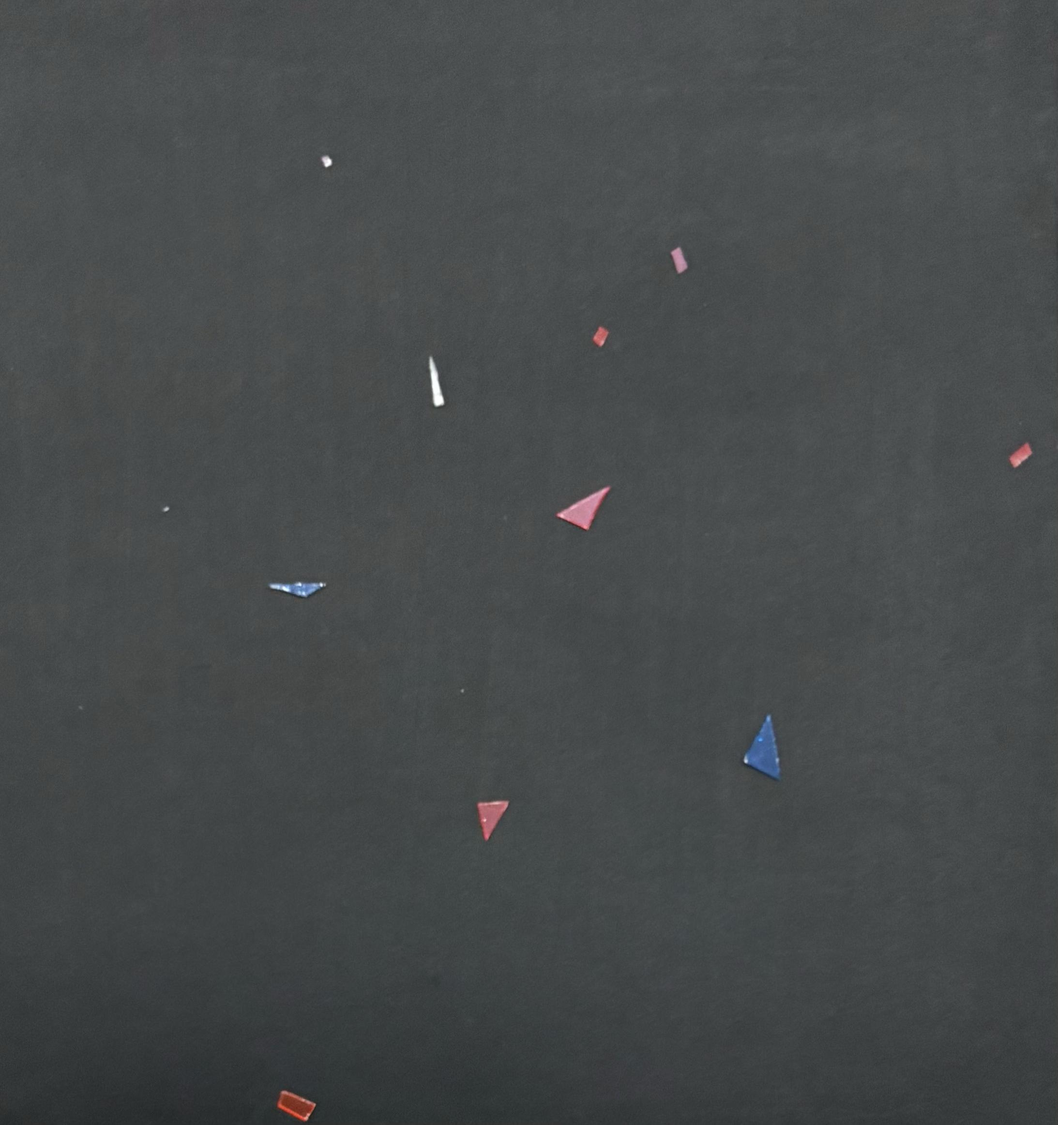Microplastic Particle: (744, 715, 781, 780), (556, 486, 610, 530), (435, 357, 469, 425), (477, 800, 509, 841), (277, 1091, 316, 1122), (269, 582, 326, 598), (1009, 442, 1032, 468), (670, 246, 689, 274), (592, 326, 610, 348), (320, 154, 333, 169), (163, 506, 169, 511), (78, 705, 82, 710), (461, 689, 465, 693)
